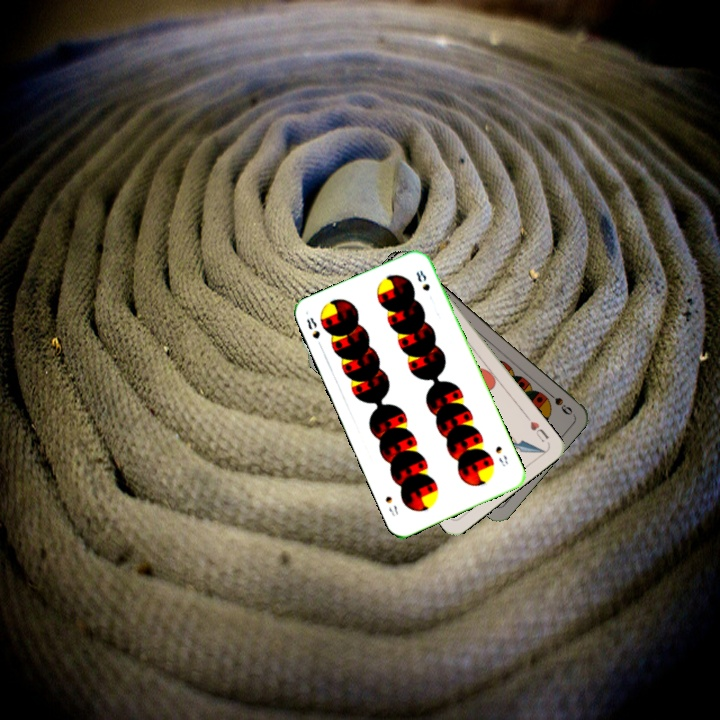HU: (522, 411, 551, 444)
S8: (303, 313, 325, 351), (491, 442, 511, 469)
S9: (541, 386, 575, 418)
